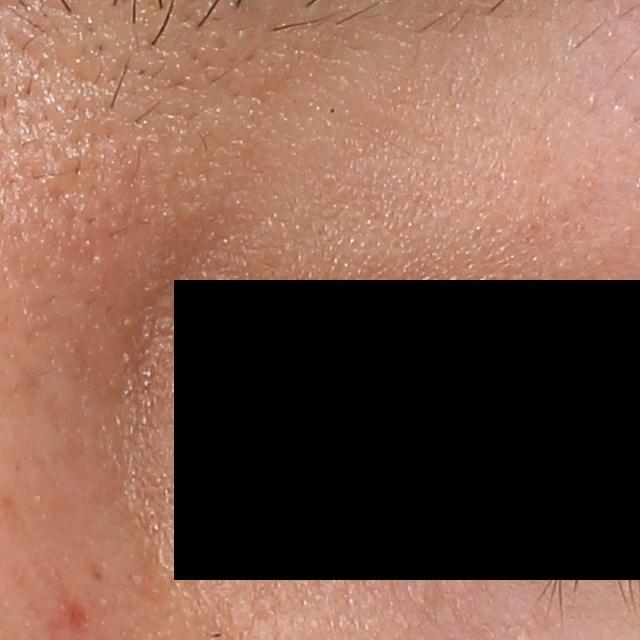melasma: (90, 559, 106, 581)
